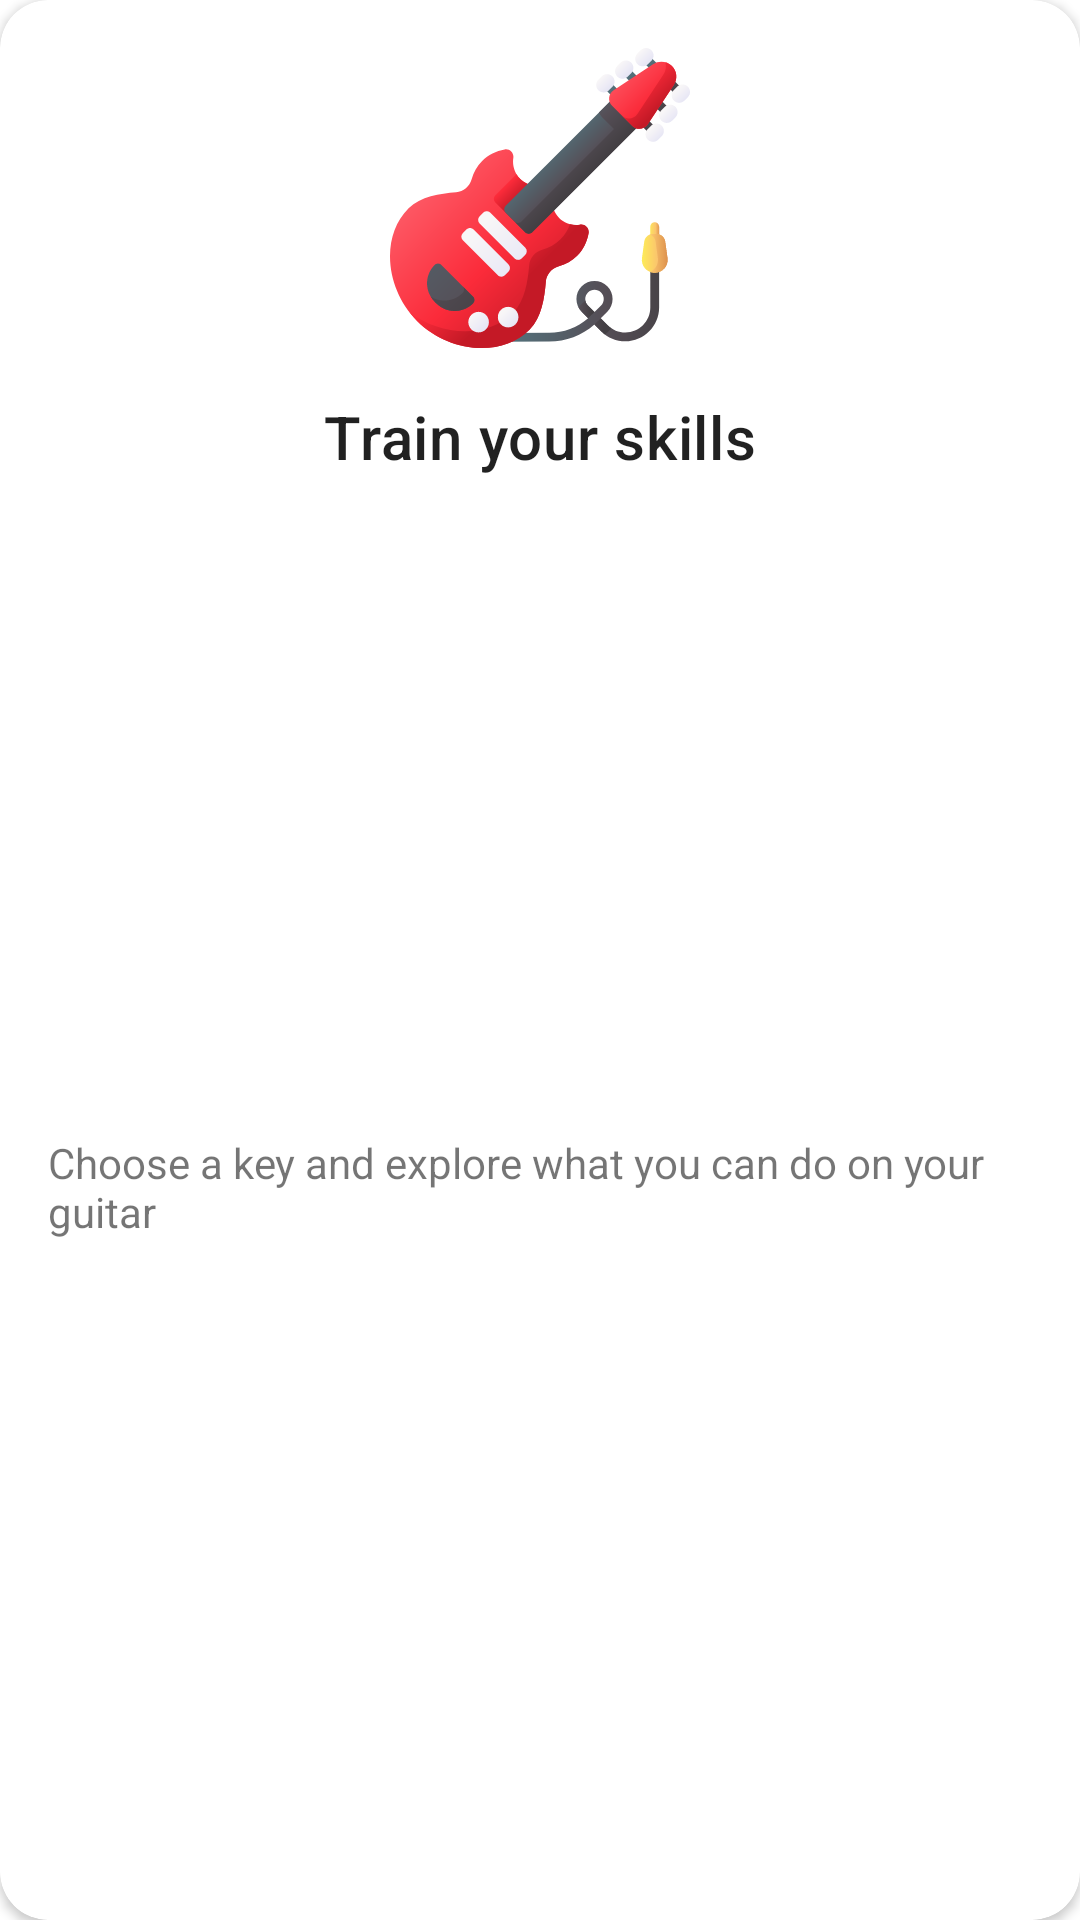

Where to tap for icons on this 1080×1920 app screen, as (x=x, y=y):
guitar: (x=534, y=202)
